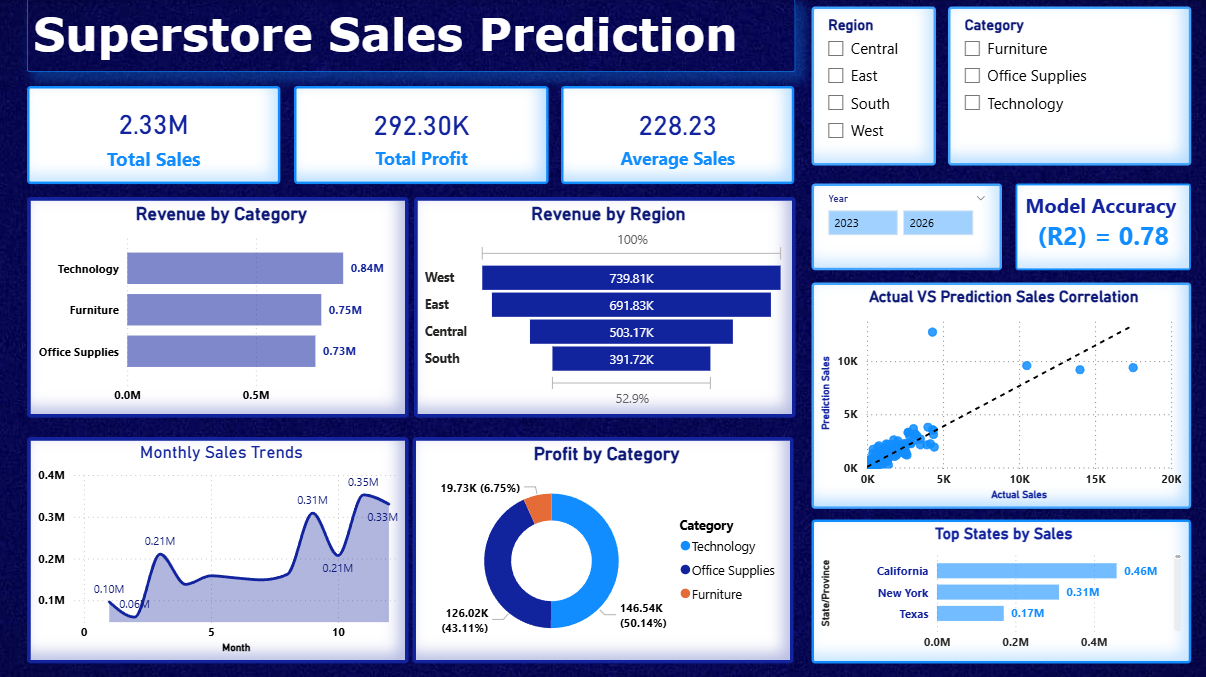

This screenshot's page, from the dashboard's own definition file:
{"tool":"powerbi","page":{"name":"Page 1","canvas":[1280,720],"ordinal":0},"visuals":[{"type":"card","fields":{"Values":["public sales_data.Total Sales"]},"box":[28.3,92.6,268.3,103.9],"z":0},{"type":"card","fields":{"Values":["public sales_data.Total Profit"]},"box":[311.8,92.6,270.2,103.9],"z":1000},{"type":"card","fields":{"Values":["public sales_data.Average Sales"]},"box":[595.3,92.6,247.6,103.9],"z":2000},{"type":"textbox","box":[28.3,0,814.5,77.5],"z":3000},{"type":"clusteredBarChart","title":"Revenue by Category","fields":{"Y":["Sum(public sales_data.Sales)"],"Category":["public sales_data.Category"]},"box":[28.3,209.8,404.4,234.3],"z":4000},{"type":"funnel","title":"Revenue by Region","fields":{"Category":["public sales_data.Region"],"Y":["Sum(public sales_data.Sales)"]},"box":[438.4,209.8,404.4,234.3],"z":5000},{"type":"lineChart","title":"Monthly Sales Trends","fields":{"Category":["public sales_data.Month"],"Y":["Sum(public sales_data.Sales)"]},"box":[28.3,464.9,404.4,240],"z":6000},{"type":"donutChart","title":"Profit by Category","fields":{"Category":["public sales_data.Category"],"Y":["Sum(public sales_data.Profit)"]},"box":[438,465,404,240],"z":7000},{"type":"slicer","fields":{"Values":["public sales_data.Region"]},"box":[860.5,8,132,168.6],"z":8000},{"type":"slicer","fields":{"Values":["public sales_data.Category"]},"box":[1005.3,8,257.7,168.6],"z":9000},{"type":"slicer","fields":{"Values":["public sales_data.Year"]},"box":[860.5,195.6,202,92.3],"z":10000},{"type":"scatterChart","title":"Actual VS Prediction Sales Correlation","fields":{"X":["actual_vs_prediction.Actual Sales"],"Y":["actual_vs_prediction.Predicted Sales"]},"box":[860.5,300.6,402.4,240.2],"z":11000},{"type":"textbox","box":[1076.8,195.6,186.1,92.3],"z":12000},{"type":"barChart","title":"Top States by Sales","fields":{"Category":["public sales_data.State/Province"],"Y":["Sum(public sales_data.Sales)"]},"box":[860.5,551.9,402.4,152.7],"z":13000}]}

Visuals, with their boxes in screenshot pixels (x1, y1, x2, y2), scaled from the page's 1280x720 canvas onto the 1206x677 screenshot:
card - public sales_data.Total Sales: select_region(27, 87, 279, 185)
card - public sales_data.Total Profit: select_region(294, 87, 548, 185)
card - public sales_data.Average Sales: select_region(561, 87, 794, 185)
textbox: select_region(27, 0, 794, 73)
"Revenue by Category" clusteredBarChart: select_region(27, 197, 408, 418)
"Revenue by Region" funnel: select_region(413, 197, 794, 418)
"Monthly Sales Trends" lineChart: select_region(27, 437, 408, 663)
"Profit by Category" donutChart: select_region(413, 437, 793, 663)
slicer - public sales_data.Region: select_region(811, 8, 935, 166)
slicer - public sales_data.Category: select_region(947, 8, 1190, 166)
slicer - public sales_data.Year: select_region(811, 184, 1001, 271)
"Actual VS Prediction Sales Correlation" scatterChart: select_region(811, 283, 1190, 509)
textbox: select_region(1015, 184, 1190, 271)
"Top States by Sales" barChart: select_region(811, 519, 1190, 663)
